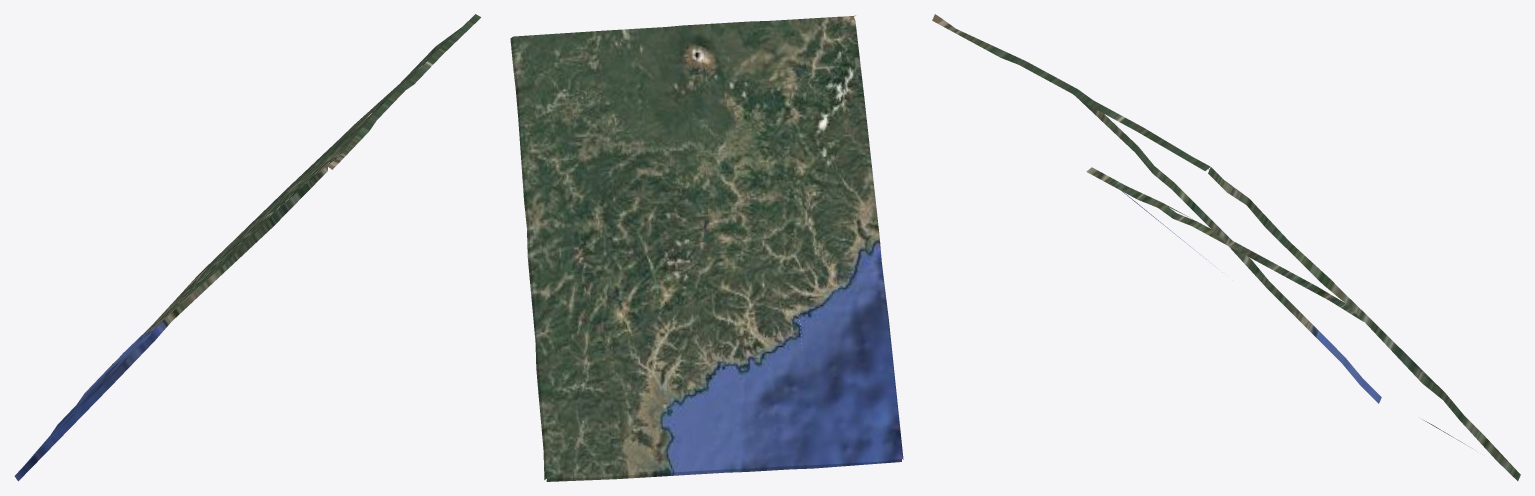
The picture shows the model from 3 angles, left to right: view 1: azimuth 30°, elevation 25°; view 2: azimuth 150°, elevation 25°; view 3: azimuth 270°, elevation 25°; orthographic projection. The views are drawn at different scales.
Size of the model in its own units: 315599 by 243912 by 311783.
Materials: 1 (1 with a texture image).
